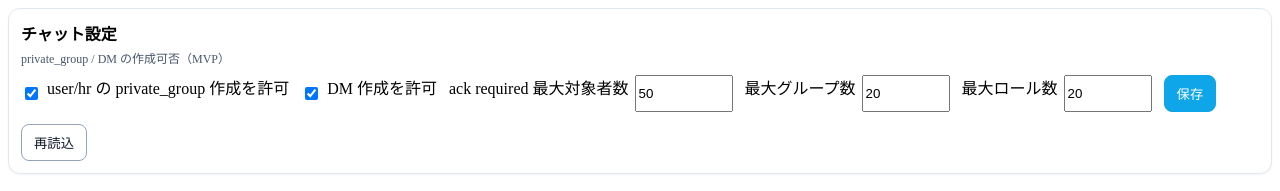
Test: ChatSettingsCard › clamps numeric inputs to the 1..200 range
Expected: the button "再読込" is enabled, x1=21 y1=124 x2=87 y2=161
Step 1. Replace the text in the number field labelled "ack required 最大対象者数" with "0" → (684,94), box x1=634 y1=75 x2=732 y2=112
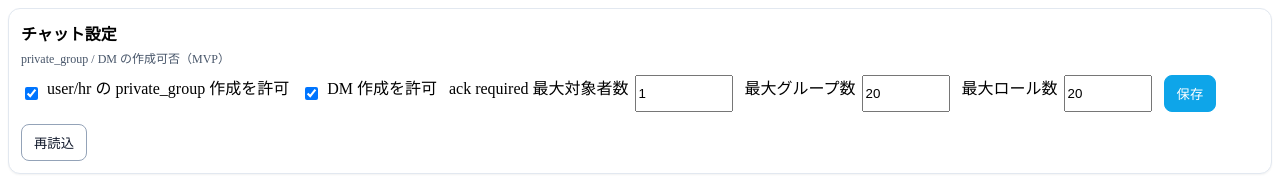
Step 2. Replace the text in the number field labelled "最大グループ数" with "201" → (906,94), box x1=862 y1=75 x2=950 y2=112
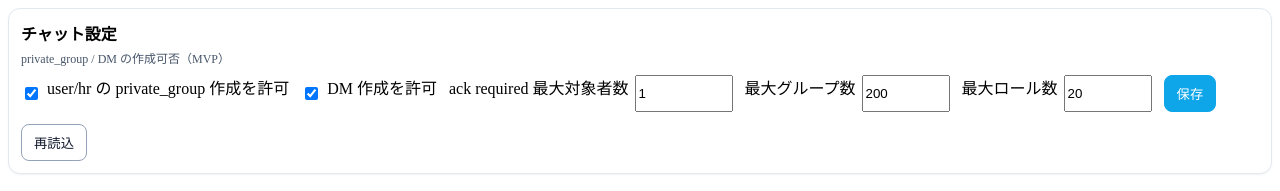
Step 3. Replace the text in the number field labelled "最大ロール数" with "199.8" → (1108,94), box x1=1064 y1=75 x2=1152 y2=112
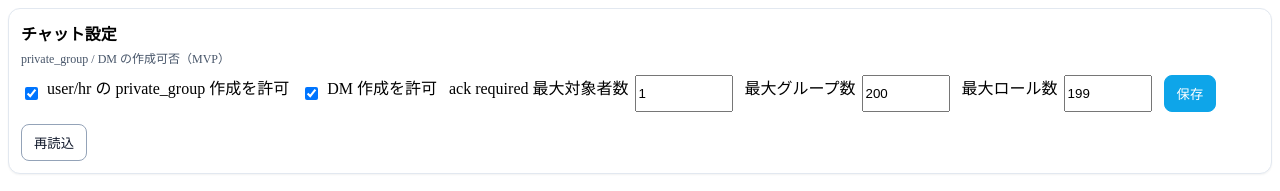
Now the number field labelled "ack required 最大対象者数" holds "1", box x1=634 y1=75 x2=732 y2=112
Now the number field labelled "最大グループ数" holds "200", box x1=862 y1=75 x2=950 y2=112
Now the number field labelled "最大ロール数" holds "199", box x1=1064 y1=75 x2=1152 y2=112
